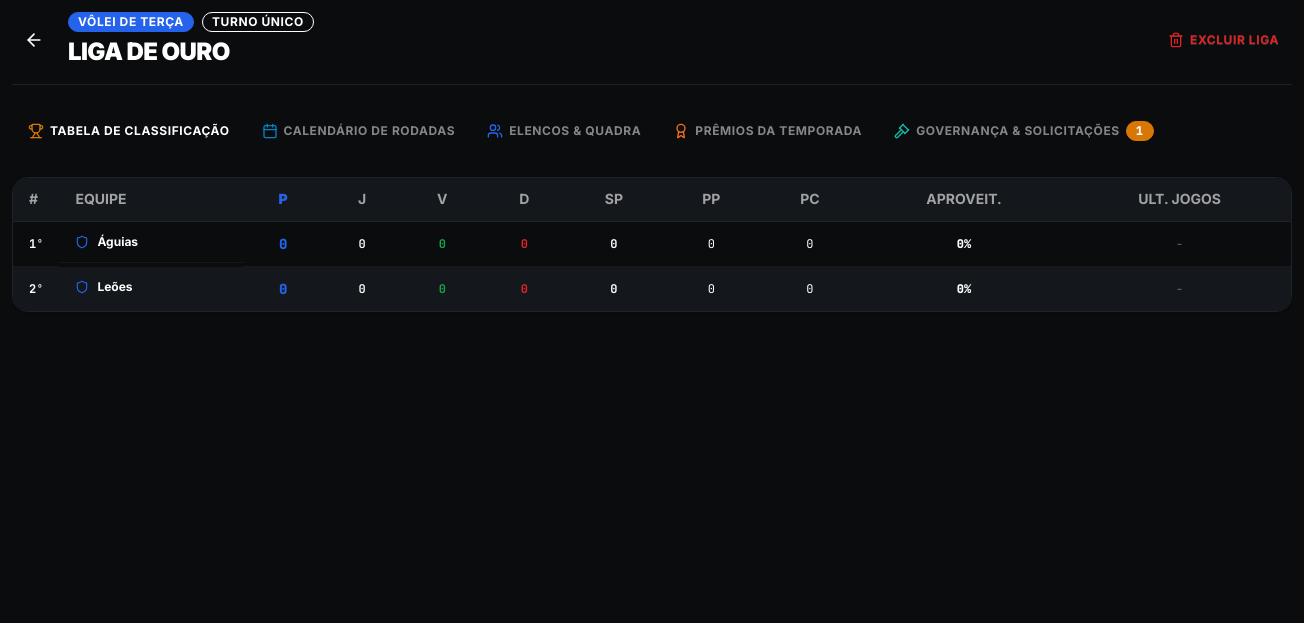
Test case: ChampionshipDetailView › mostra a aba de governança com a solicitação pendente e suas ações
Click the button "Governança & Solicitações 1".
click(1024, 131)  # box [878,109,1170,153]
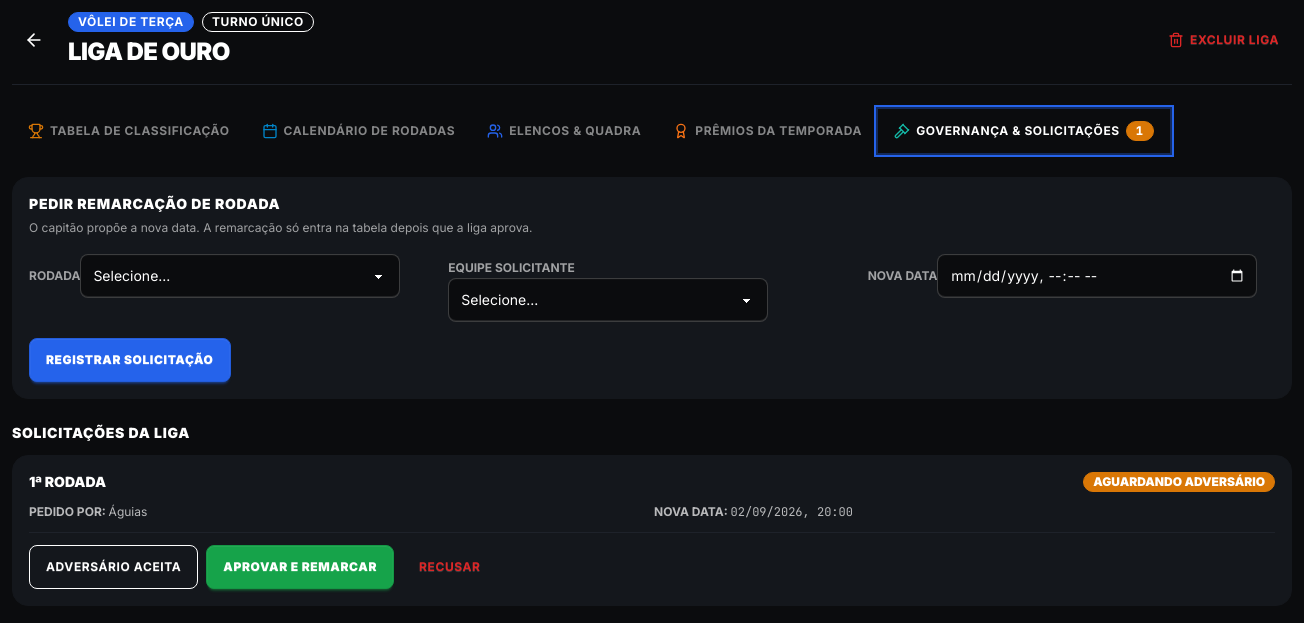
Expected: the text "Aguardando adversário" is shown, [1083,472,1275,492]
Expected: the button "Adversário aceita" is shown, [29,544,198,588]
Expected: the button "Aprovar e remarcar" is shown, [206,544,394,588]
